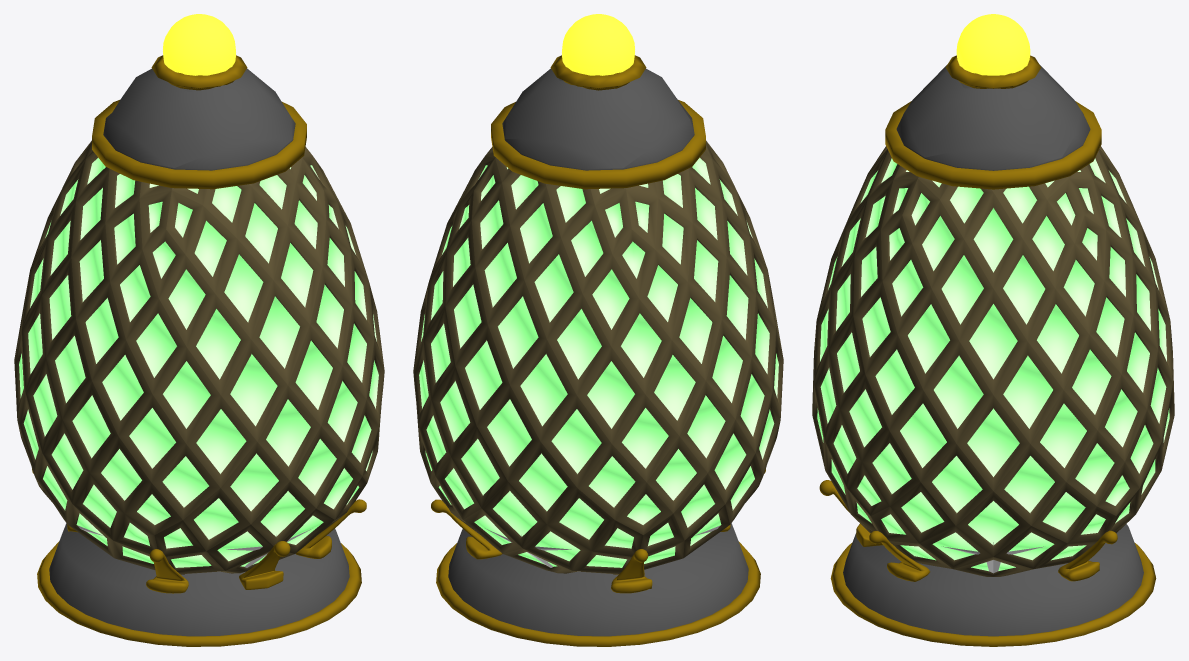
File: Turtle Egg 1x1 v2.fbx
The picture shows the model from 3 angles, left to right: view 1: azimuth 30°, elevation 25°; view 2: azimuth 150°, elevation 25°; view 3: azimuth 270°, elevation 25°; orthographic projection.
Parts seen in each view (by area): view 1: Egg.001, Base, Egg_top.001, Sphere.006, Retopo_Support.003, Torus.002, BACKUP Support., Sphere.002; view 2: Egg.001, Base, Egg_top.001, Sphere.006, Retopo_Support.003, Torus.002, Sphere.002; view 3: Egg.001, Base, Egg_top.001, Sphere.006, Retopo_Support.003, Torus.002, Sphere.002, BACKUP Support..
Part boxes in pixels (x1=…): Egg.001: x1=14, y1=140, x2=384, y2=574; Base: x1=37, y1=523, x2=361, y2=646; Egg_top.001: x1=92, y1=68, x2=306, y2=189; Sphere.006: x1=163, y1=14, x2=235, y2=67; Retopo_Support.003: x1=32, y1=469, x2=366, y2=593; Torus.002: x1=151, y1=55, x2=247, y2=88; BACKUP Support.: x1=239, y1=541, x2=290, y2=589; Sphere.002: x1=163, y1=52, x2=235, y2=75; Egg.001: x1=413, y1=140, x2=783, y2=574; Base: x1=436, y1=523, x2=760, y2=646; Egg_top.001: x1=491, y1=68, x2=705, y2=189; Sphere.006: x1=562, y1=14, x2=634, y2=67; Retopo_Support.003: x1=431, y1=469, x2=765, y2=593; Torus.002: x1=550, y1=55, x2=646, y2=88; Sphere.002: x1=562, y1=52, x2=634, y2=75; Egg.001: x1=812, y1=146, x2=1174, y2=576; Base: x1=830, y1=524, x2=1156, y2=646; Egg_top.001: x1=885, y1=65, x2=1101, y2=189; Sphere.006: x1=956, y1=14, x2=1030, y2=67; Retopo_Support.003: x1=869, y1=530, x2=1117, y2=581; Torus.002: x1=945, y1=55, x2=1041, y2=88; Sphere.002: x1=956, y1=52, x2=1030, y2=75; BACKUP Support.: x1=819, y1=480, x2=882, y2=546.
Bounding box in the file's own units: 197 × 337 × 197.
